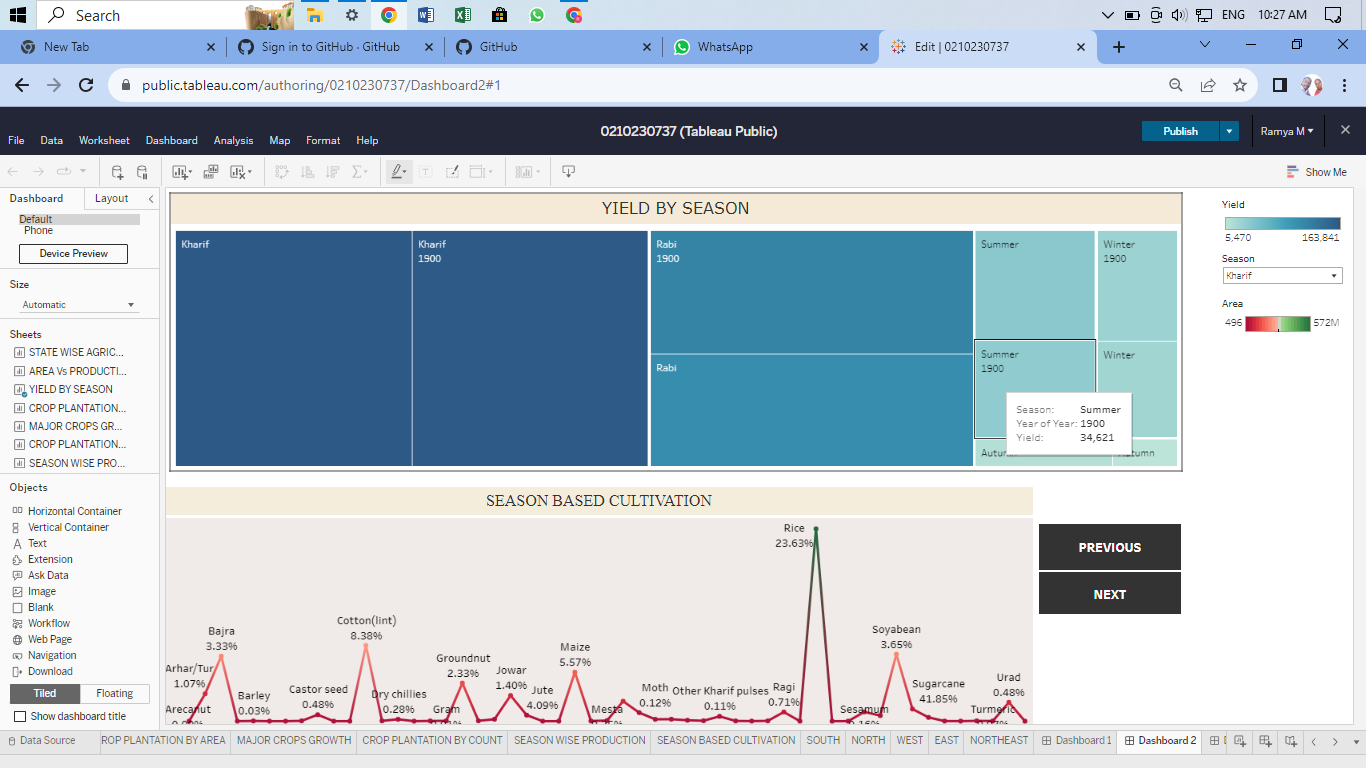

Layout of this report page (visuals, bound fields, positions):
{"tool":"tableau","page":{"name":"Dashboard 2","canvas":[1000,1000],"units":"permille","ordinal":1},"visuals":[{"type":"worksheet","title":"YIELD BY SEASON","mark":"Automatic","box":[4.3,10,851.1,516.6]},{"type":"legend","title":"YIELD BY SEASON","param":"[federated.0jbw6hw00qi6cd12y6h290paafz2].[sum:Yield:qk]","box":[886.8,11.9,107.8,101.5]},{"type":"filter","title":"SEASON BASED CULTIVATION","param":"[federated.0jbw6hw00qi6cd12y6h290paafz2].[none:Season:nk]","box":[886.8,113.4,107.8,83.6]},{"type":"legend","title":"SEASON BASED CULTIVATION","param":"[federated.0jbw6hw00qi6cd12y6h290paafz2].[sum:Area:qk]","box":[886.8,197,107.8,101.5]},{"type":"dashboard-object","box":[735.4,626.2,119.6,86.4]},{"type":"dashboard-object","box":[735.4,716,119.6,79.7]}]}

Visuals, with their boxes on the dashboard's canvas, which has no fixed pixel size, in thousandths of its width and height (x1, y1, x2, y2). These are canvas units, not pixel positions in the 1366x768 screenshot, which may show the page scaled, cropped or inside an application window:
"YIELD BY SEASON" worksheet: box=[4, 10, 855, 527]
"YIELD BY SEASON" legend: box=[887, 12, 995, 113]
"SEASON BASED CULTIVATION" filter: box=[887, 113, 995, 197]
"SEASON BASED CULTIVATION" legend: box=[887, 197, 995, 298]
dashboard-object: box=[735, 626, 855, 713]
dashboard-object: box=[735, 716, 855, 796]
